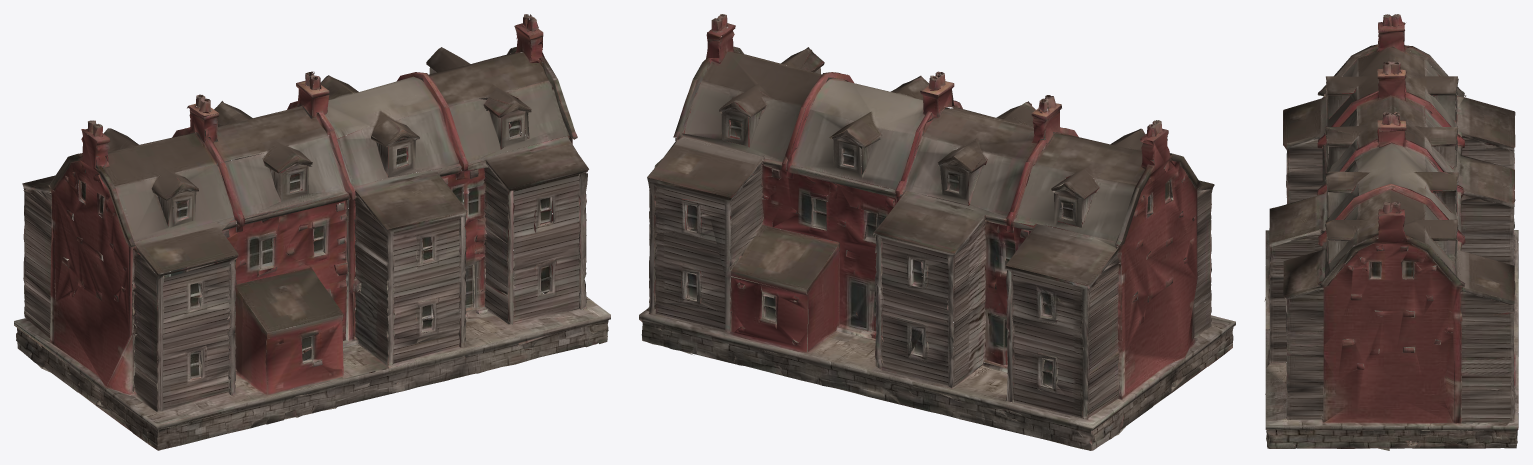
File: city-block-rear-b.glb
The picture shows the model from 3 angles, left to right: view 1: azimuth 30°, elevation 25°; view 2: azimuth 150°, elevation 25°; view 3: azimuth 270°, elevation 25°; orthographic projection. The views are drawn at different scales.
Visible parts, largest first — view 1: Mesh_0; view 2: Mesh_0; view 3: Mesh_0.
Part boxes in pixels (box(x1,y1,x2,y2)): Mesh_0: box(14, 14, 610, 450); Mesh_0: box(639, 14, 1235, 450); Mesh_0: box(1264, 14, 1518, 450).
Bounding box in the file's own units: 1.9 × 1.11 × 1.04.
Materials: 1 (1 with a texture image).
